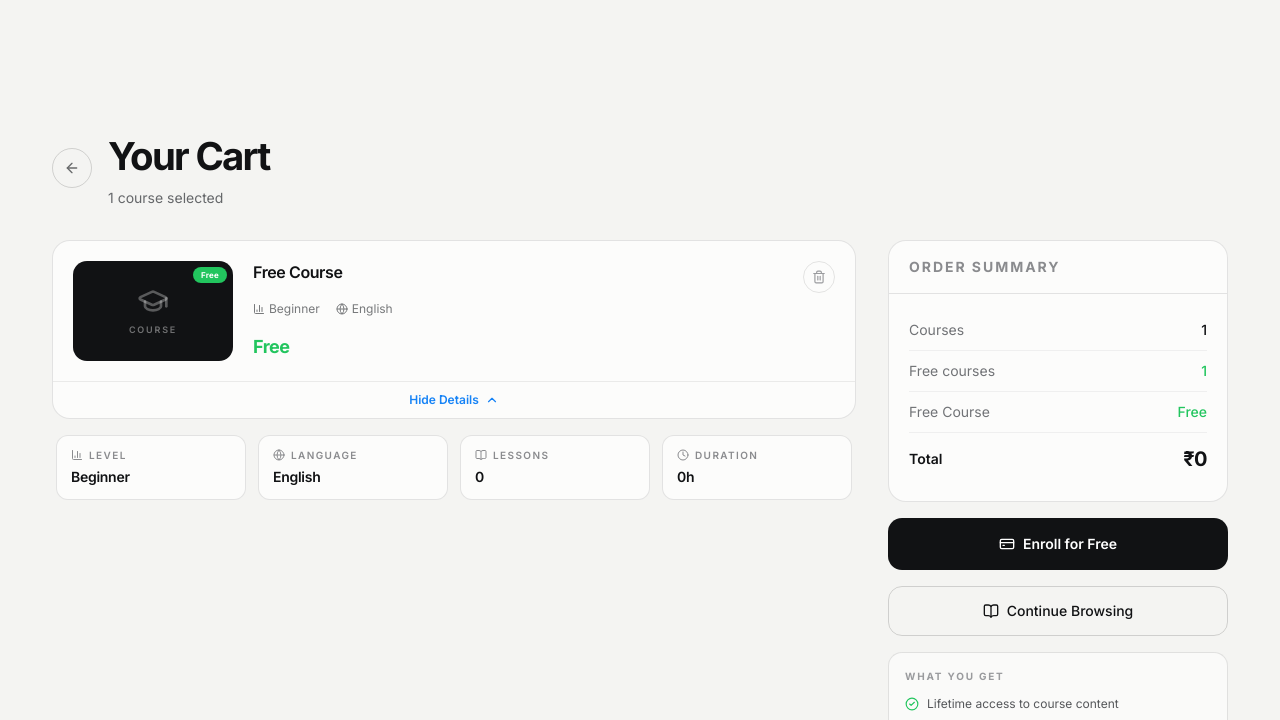
Scenario: handleCheckout — free-enroll failure after successful payment › does NOT show the success modal when free-enroll fails in a free-only cart
Click the button "Enroll for Free". click: (1058, 544)
box: left=888, top=518, right=1228, bottom=570
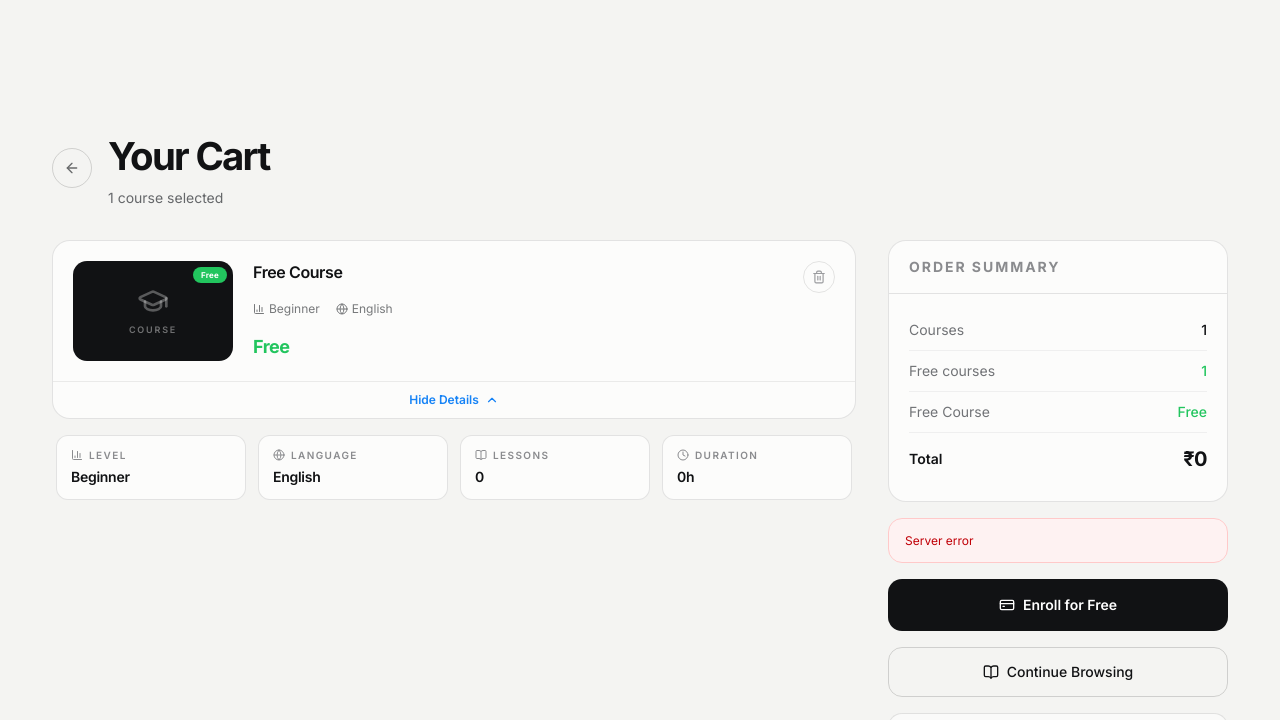
Expected: the message reads "Server error", left=905, top=533, right=974, bottom=548
